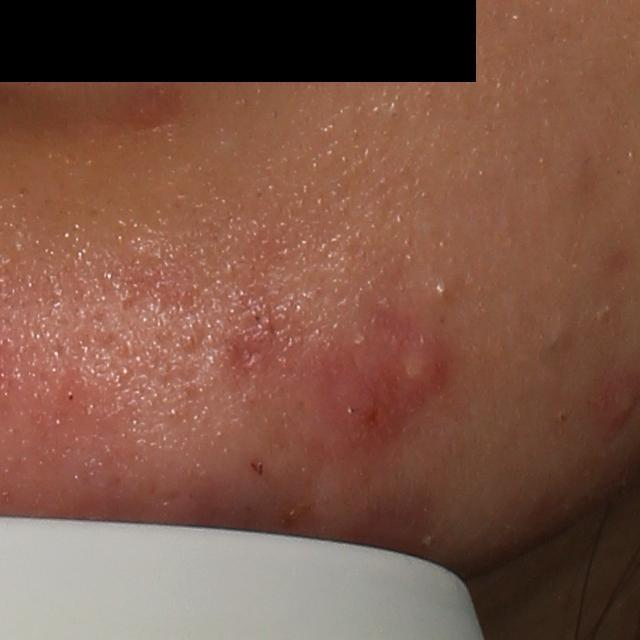comedo: (541, 313, 574, 360), (430, 276, 457, 302)
papule: (333, 377, 387, 439), (400, 340, 442, 393)
